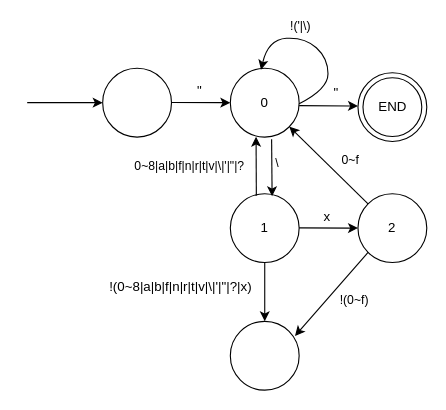
Some shapes in this 446 by 410 pixel diagram are drawn without their labels. Each missing label, with the centre of its shape:
ERROR: the point at 264,355
INIT: the point at 136,102
